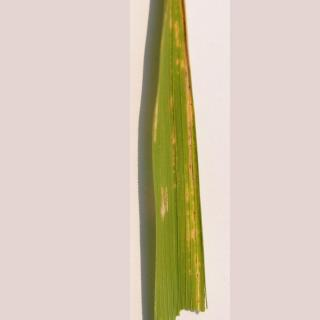Hawar-Daun: (167, 4, 211, 285), (156, 182, 171, 226), (150, 99, 162, 144)
